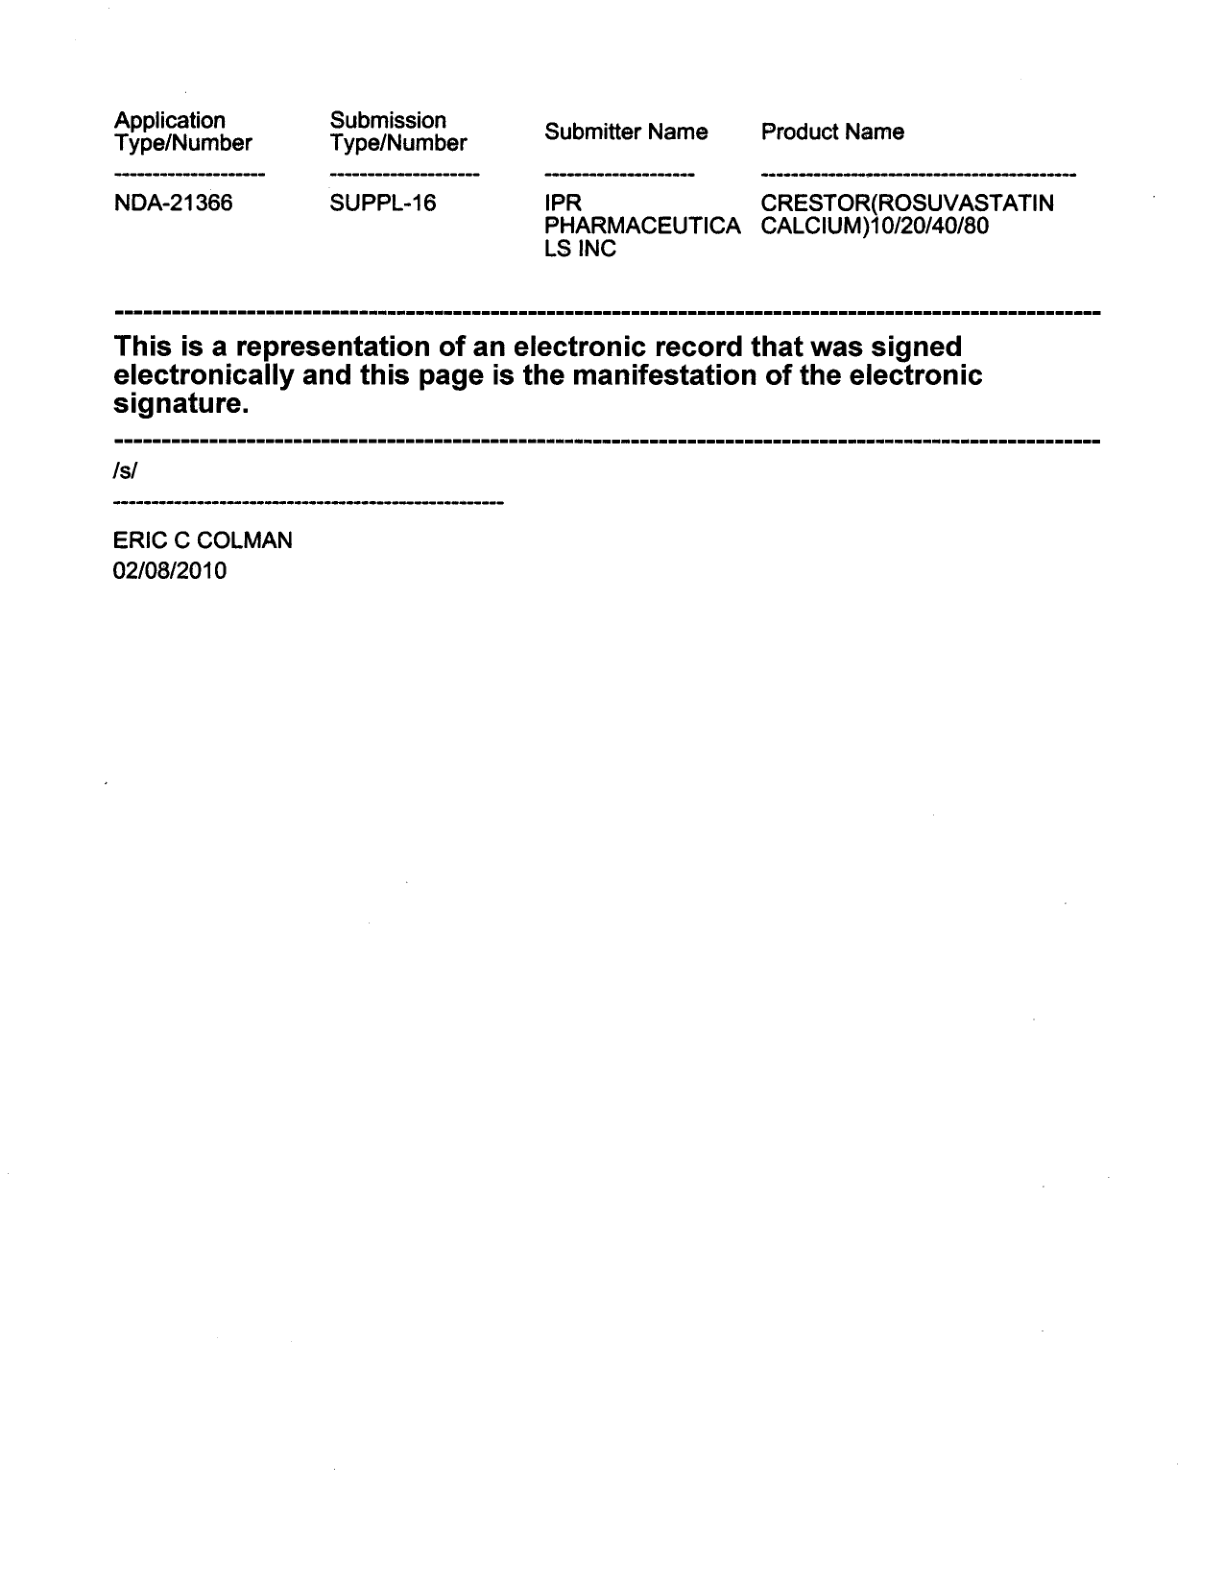nolines: (113, 107, 1079, 265)
